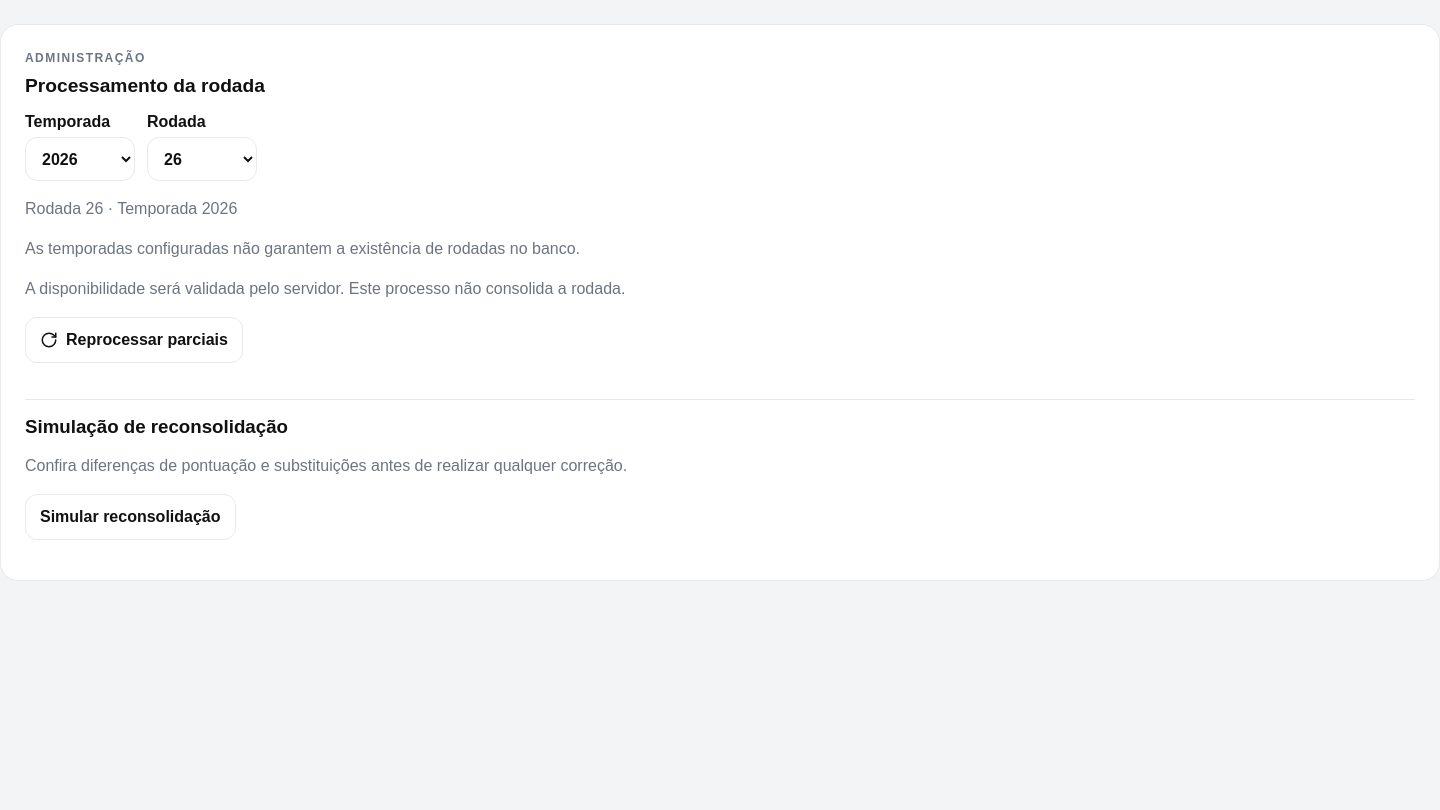
Test: permite cancelar sem POST
Click the button "Reprocessar parciais". click: (134, 340)
box: [25,317,243,363]
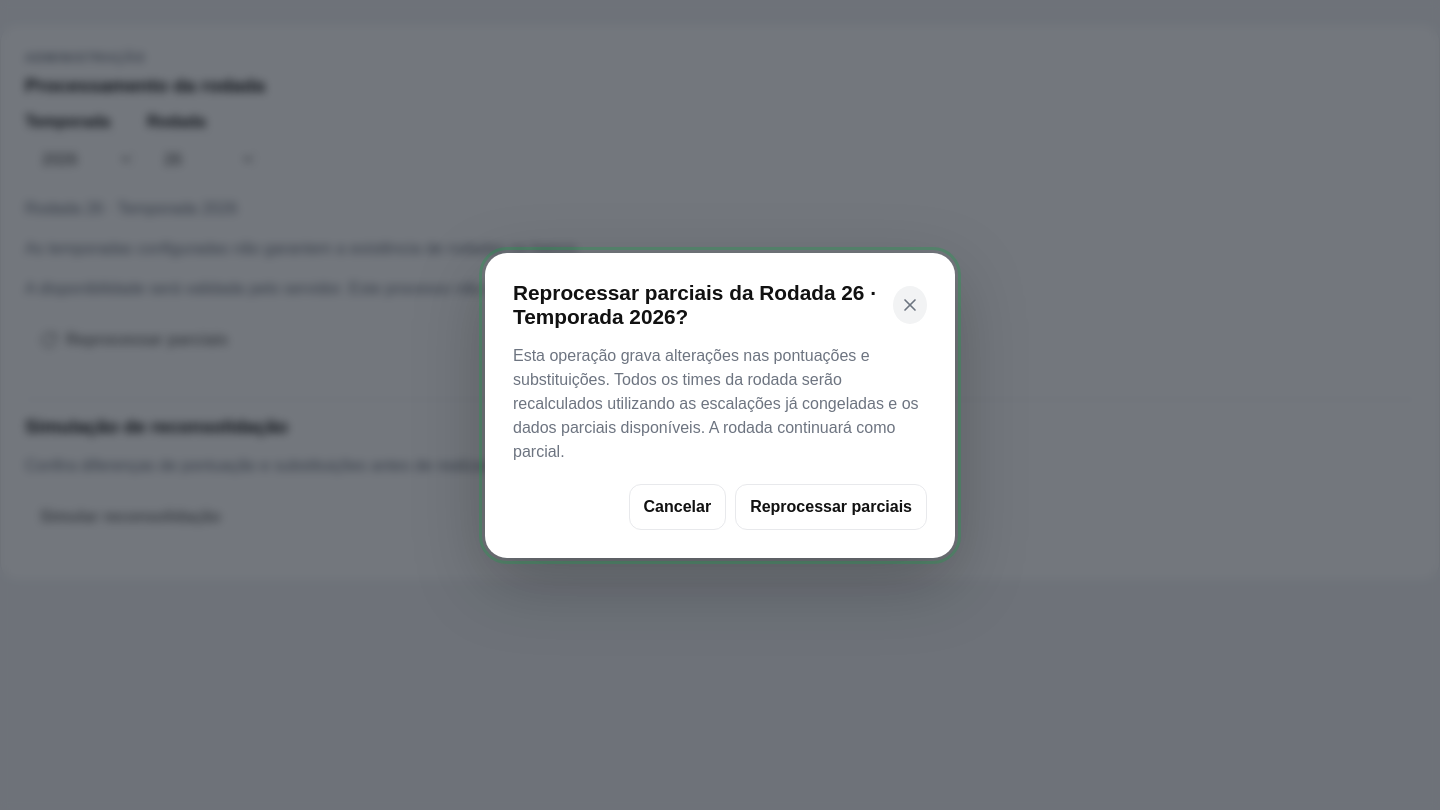
Click the button "Cancelar". click: (677, 506)
box: [628,484,726,530]
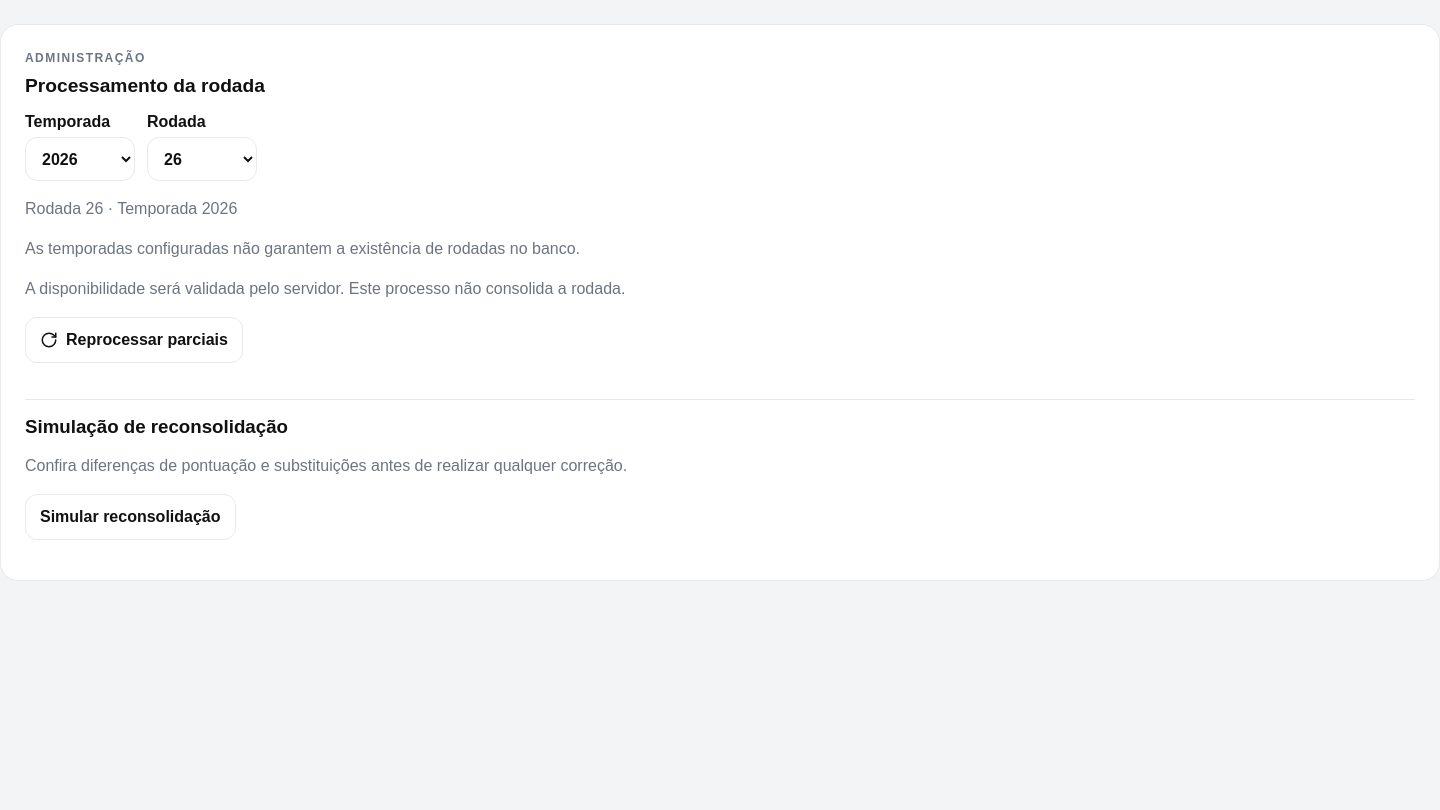
Now the dialog is gone
